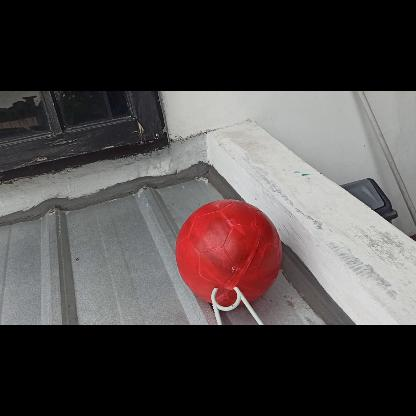red_ball: (177, 198, 282, 304)
